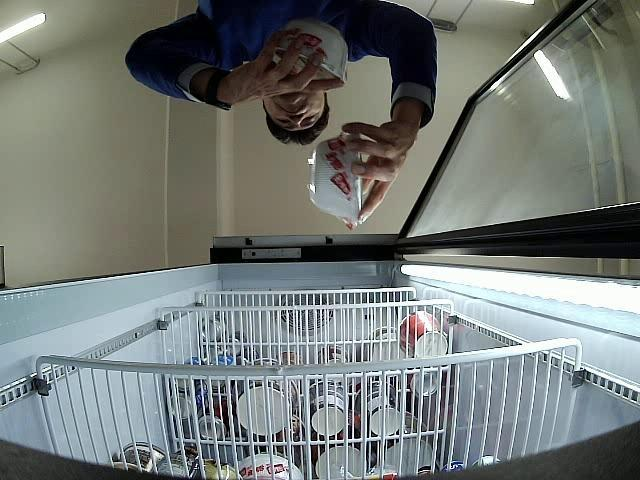09_yukGaeJang: (274, 19, 349, 84), (308, 131, 362, 218)
